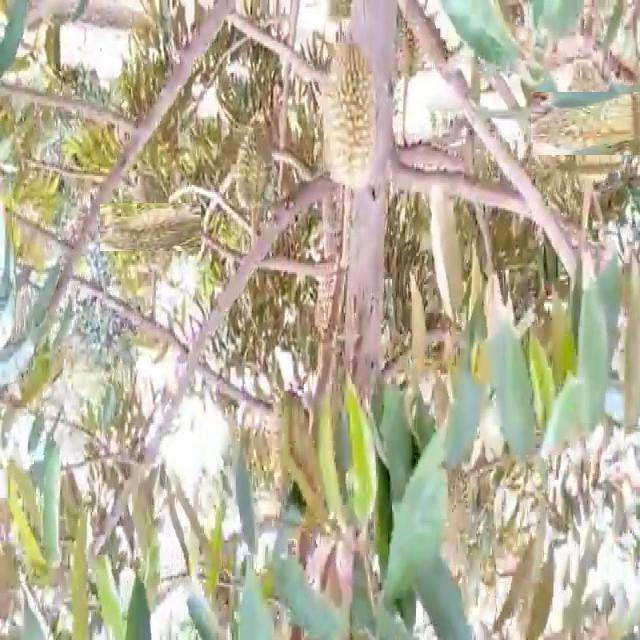durian: (316, 39, 378, 196), (546, 77, 640, 171), (113, 190, 188, 264), (232, 114, 278, 214)
